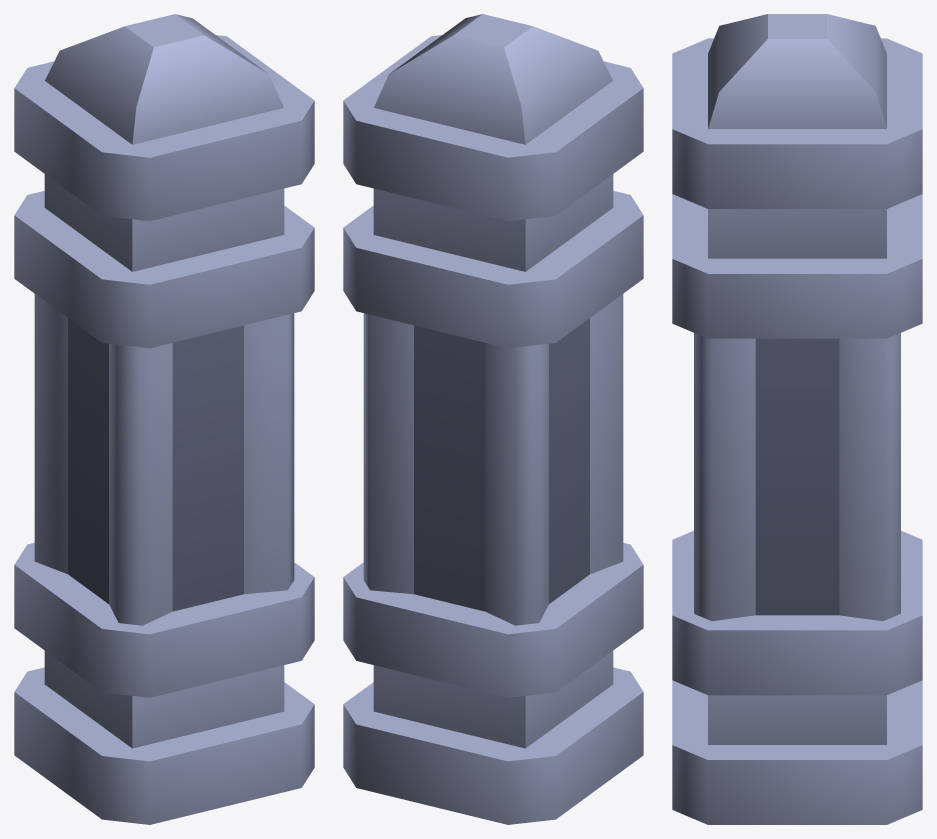
The model's file is pillar-square_lev2.glb.
3 renders of one model, left to right at view 1: azimuth 30°, elevation 25°; view 2: azimuth 150°, elevation 25°; view 3: azimuth 270°, elevation 25°, orthographic. The views are drawn at different scales.
Visible parts, largest first — view 1: pillar-square_lev2; view 2: pillar-square_lev2; view 3: pillar-square_lev2.
Part boxes in pixels (x1,y1,x2,y2): pillar-square_lev2: (14,14,314,824); pillar-square_lev2: (343,14,643,824); pillar-square_lev2: (672,14,922,824).
Size of the model in its own units: 2.8 by 9.2 by 2.8.
1 material, 1 textured.
